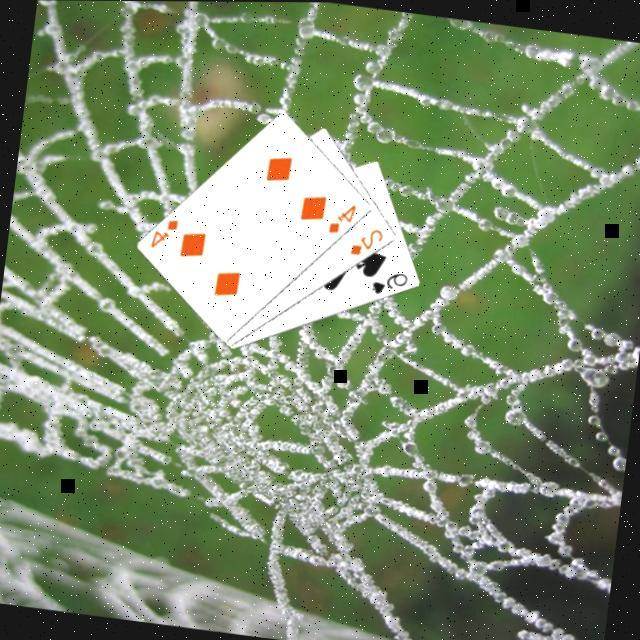2D: (348, 222, 388, 262)
4D: (148, 214, 184, 254), (326, 198, 361, 239)
9S: (369, 266, 412, 302)
